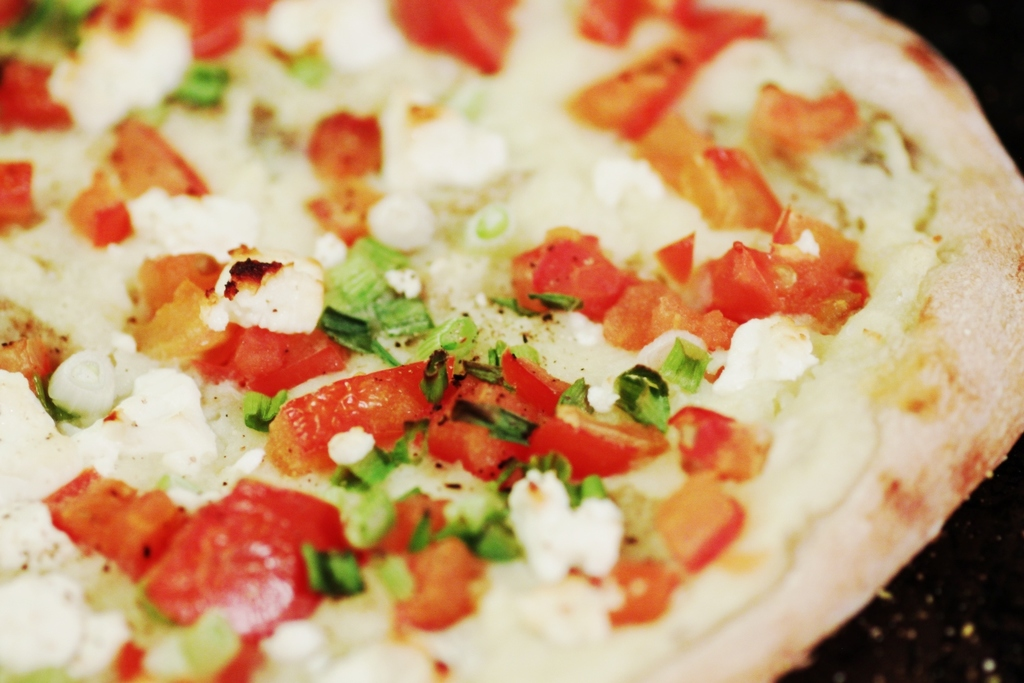Pizza: (28, 0, 1024, 683)
